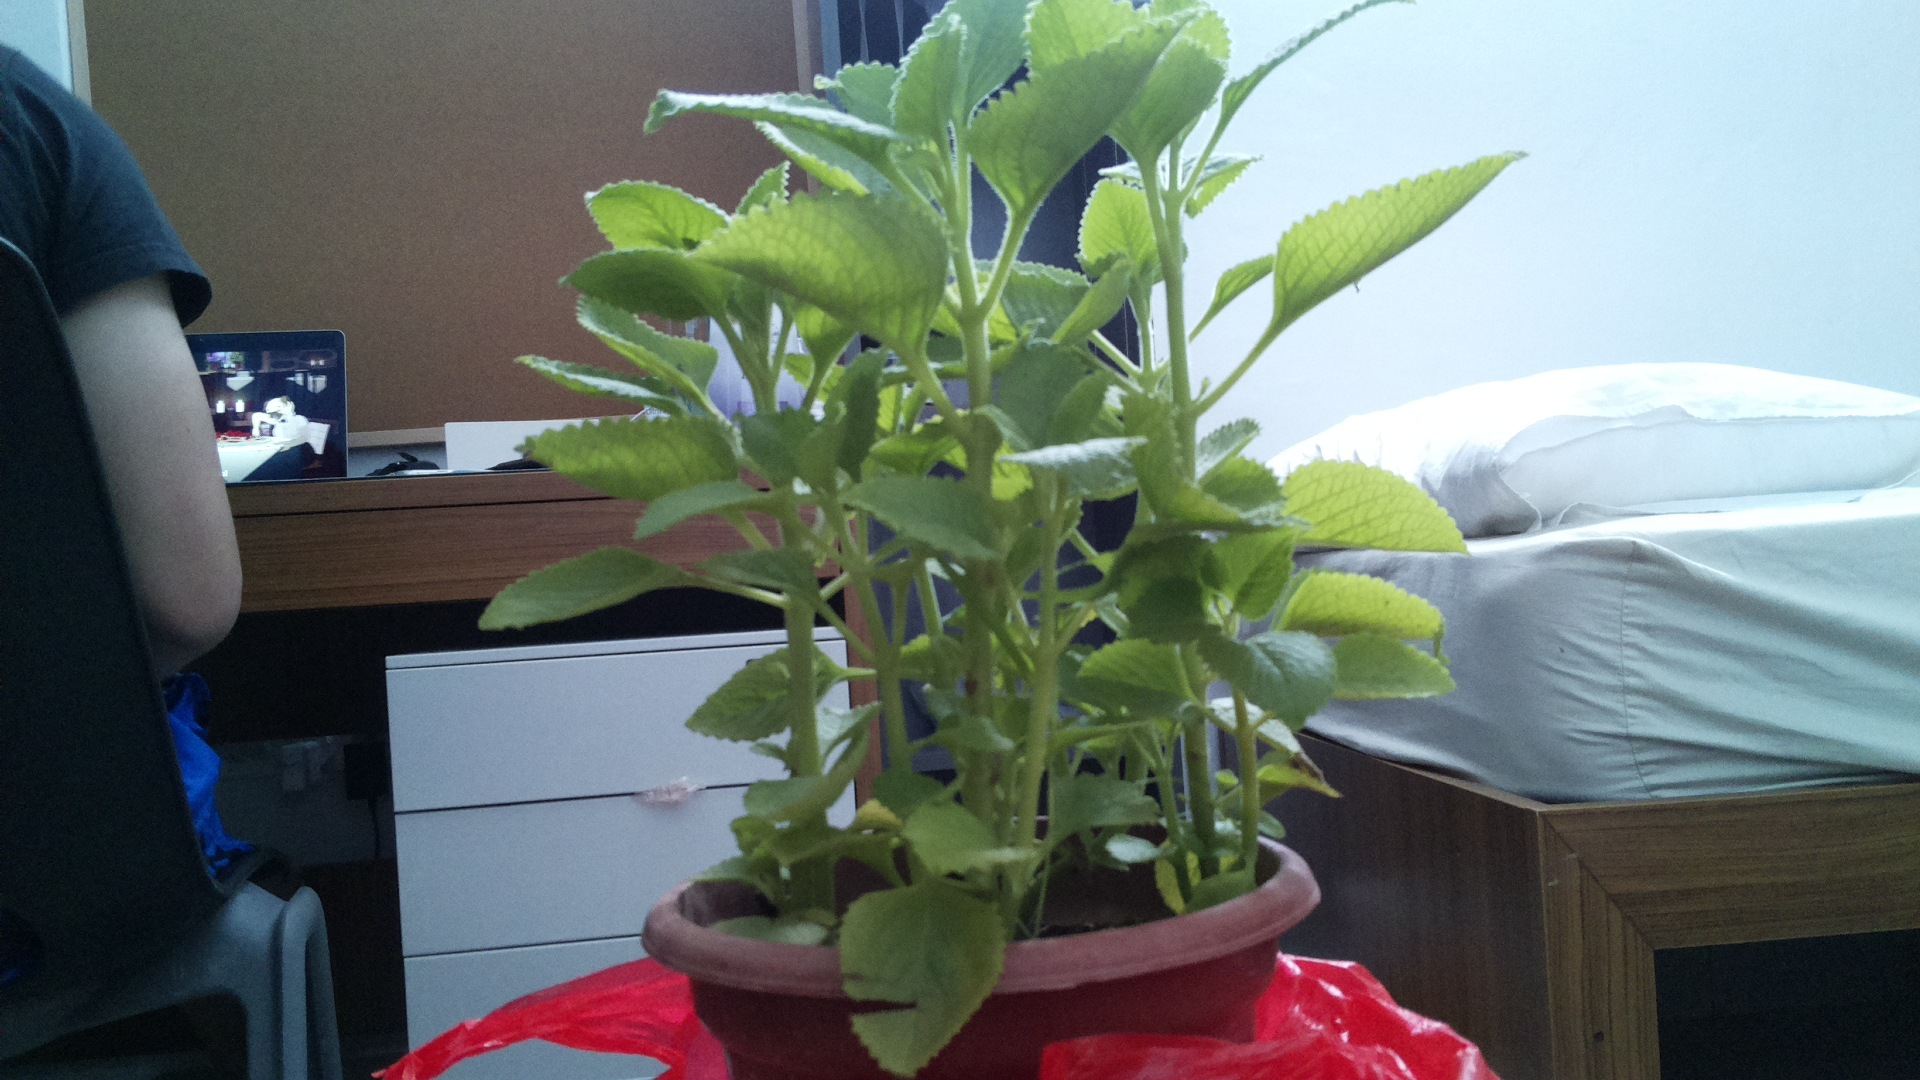leaf: (1259, 135, 1540, 342), (982, 9, 1195, 233), (687, 177, 944, 361), (844, 872, 1007, 1073), (498, 394, 757, 512), (467, 533, 684, 644), (1284, 447, 1469, 575), (637, 74, 919, 152), (1117, 440, 1291, 545), (844, 465, 1001, 568), (575, 166, 737, 261), (1216, 629, 1340, 742), (1284, 579, 1444, 642)
